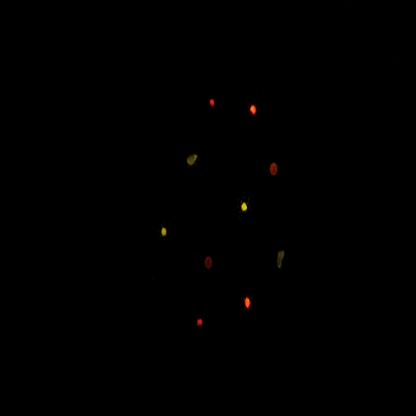PE: (156, 220, 174, 249), (238, 196, 253, 222)
PET: (194, 310, 209, 338), (207, 91, 220, 116)
PP: (180, 139, 205, 178), (274, 243, 289, 276)
PS: (201, 247, 219, 281), (267, 157, 283, 186)
PVC: (241, 284, 257, 318), (248, 98, 263, 125)
